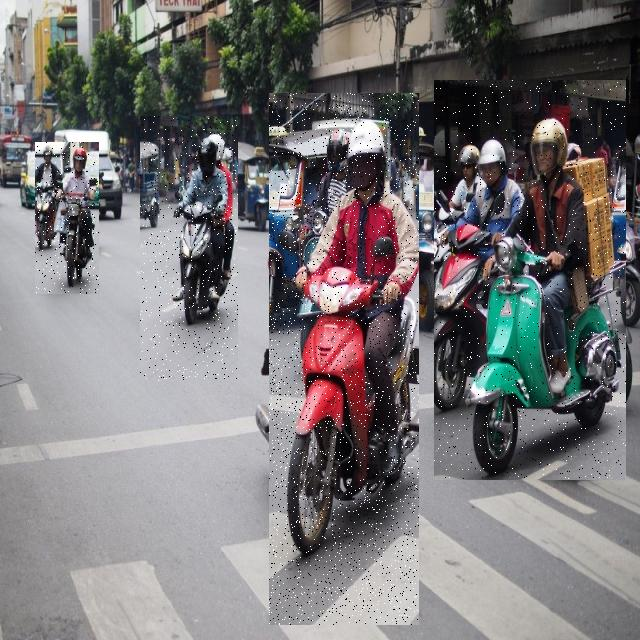With Helmet: (269, 93, 419, 625), (434, 80, 626, 480), (140, 116, 238, 381), (35, 142, 99, 294)
